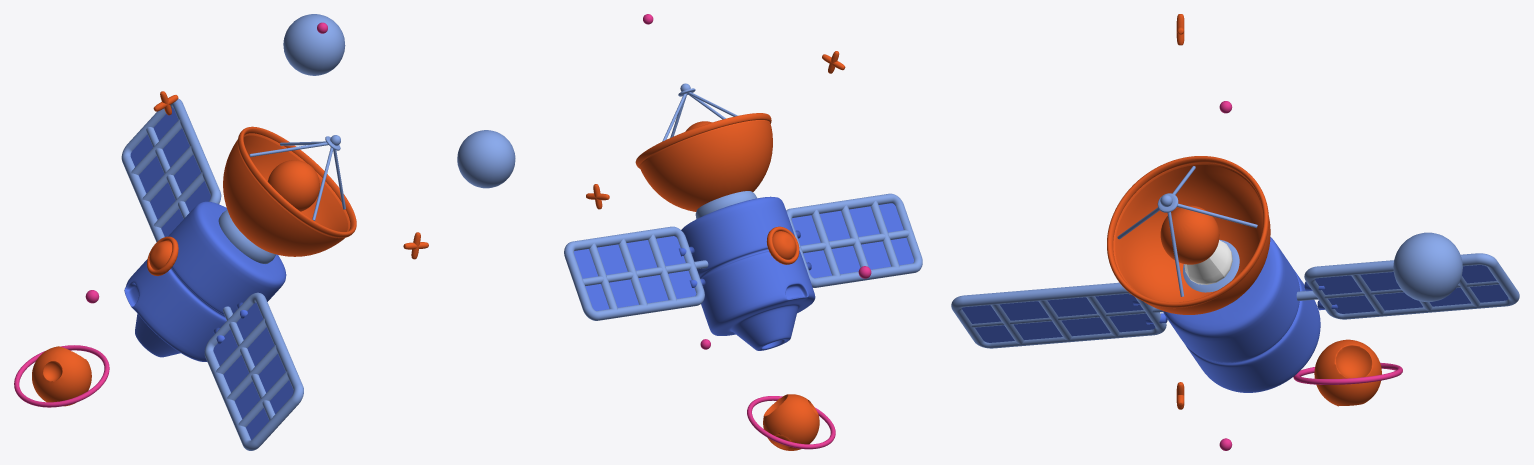
Rendered from satellite-3d-animated-model-750971524273.glb.
The picture shows the model from 3 angles, left to right: view 1: azimuth 30°, elevation 25°; view 2: azimuth 150°, elevation 25°; view 3: azimuth 270°, elevation 25°; orthographic projection. The views are drawn at different scales.
Parts seen in each view (by area): view 1: body, panel, planet.001, planet; view 2: body, panel, planet.001, planet; view 3: body, panel, planet.001, planet.
Part boxes in pixels (x1=…): body: x1=124, y1=126, x2=356, y2=361; panel: x1=121, y1=98, x2=303, y2=450; planet.001: x1=14, y1=345, x2=109, y2=407; planet: x1=283, y1=14, x2=345, y2=75; body: x1=635, y1=83, x2=815, y2=350; panel: x1=564, y1=193, x2=922, y2=320; planet.001: x1=747, y1=394, x2=835, y2=450; planet: x1=457, y1=130, x2=515, y2=188; body: x1=1107, y1=156, x2=1320, y2=392; panel: x1=951, y1=253, x2=1519, y2=348; planet.001: x1=1293, y1=339, x2=1402, y2=406; planet: x1=1393, y1=232, x2=1462, y2=301.
Bounding box in the file's own units: 4.99 × 4.96 × 6.14.
